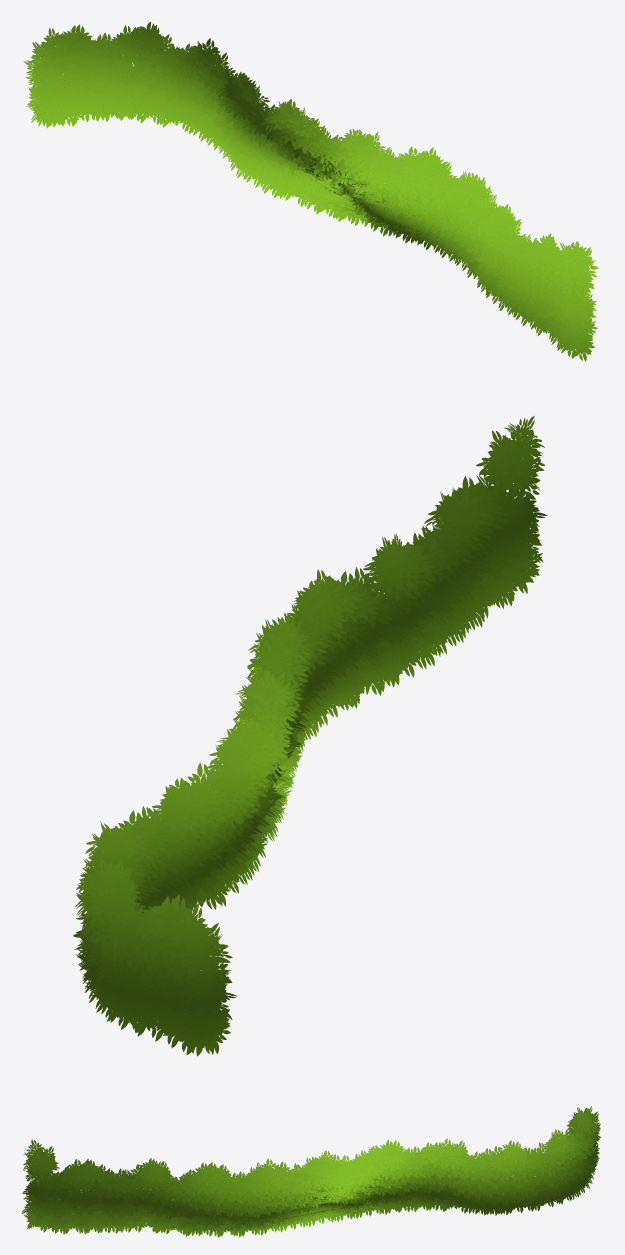
Rendered from Hedge Right.fbx.
3 views of the same model, one above another, from view 1: azimuth 30°, elevation 25°; view 2: azimuth 150°, elevation 25°; view 3: azimuth 270°, elevation 25° (orthographic). The views are drawn at different scales.
Visible parts, largest first — view 1: Hedge Right; view 2: Hedge Right; view 3: Hedge Right.
Boxes of the visible parts, x1,y1,x2,y2 form: Hedge Right: [23, 21, 598, 361]; Hedge Right: [73, 416, 547, 1056]; Hedge Right: [21, 1106, 600, 1237].
Bounding box in the file's own units: 977 × 518 × 3018.
1 material, 1 textured.
